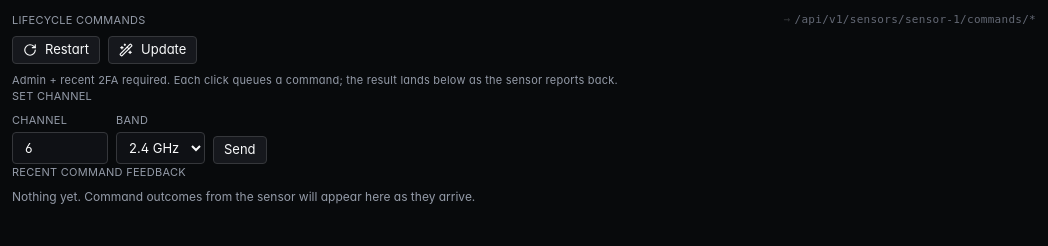
Test: SensorCommands › queues an update command
Expected: the heading "Lifecycle commands" is shown, [12, 12, 146, 28]
Click the button with aria-label "update sensor" at (153, 50), box [108, 36, 197, 64]
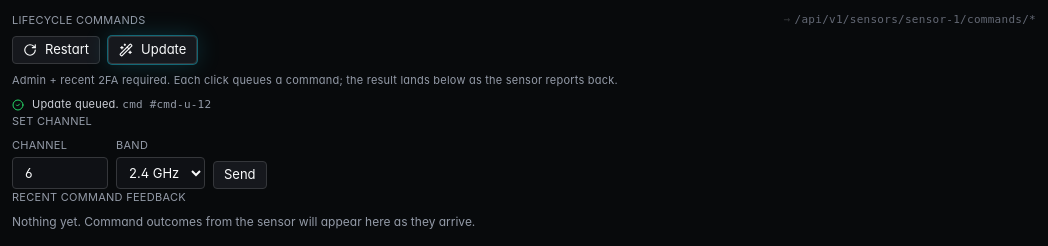
Expected: the text "Update queued. cmd #cmd-u-12" is shown, [32, 96, 211, 113]
